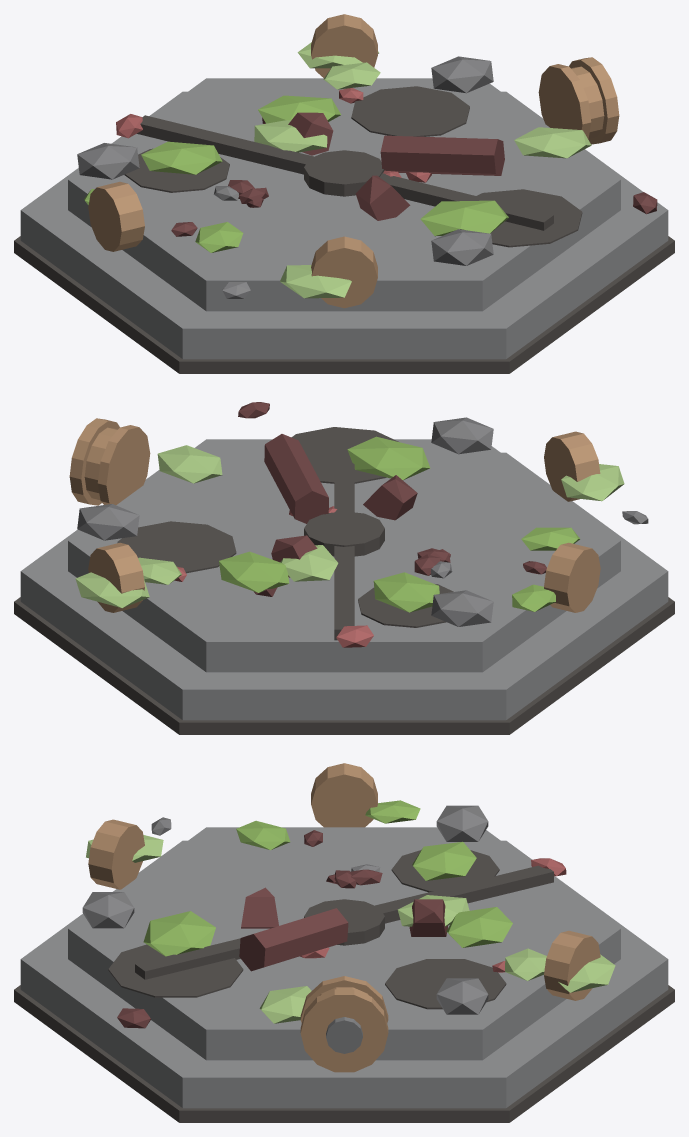
The model's file is energy_node_s2_ruin.glb.
3 views of the same model, one above another, from view 1: azimuth 30°, elevation 25°; view 2: azimuth 150°, elevation 25°; view 3: azimuth 270°, elevation 25° (orthographic).
Parts seen in each view (by area): view 1: EN_Base; view 2: EN_Base; view 3: EN_Base.
Part boxes in pixels (x1,y1,x2,y2): EN_Base: (14,14,674,373); EN_Base: (14,402,674,734); EN_Base: (14,763,674,1122).
Bounding box in the file's own units: 1.74 × 0.43 × 1.96.
